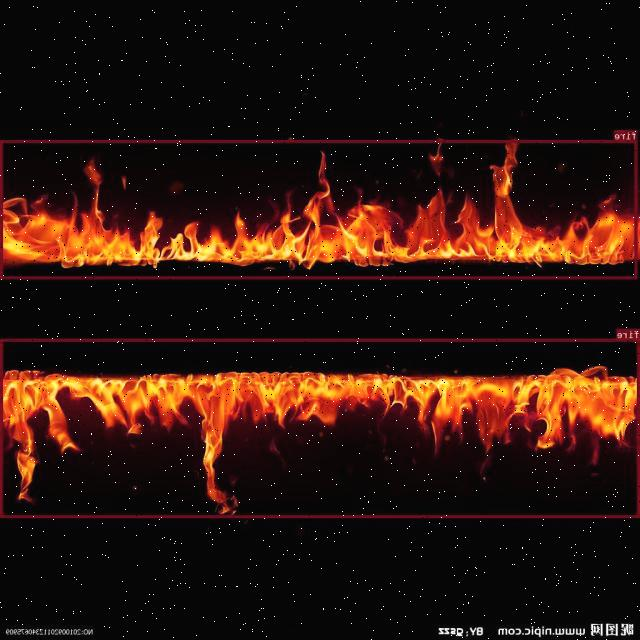fire: (1, 338, 640, 517), (1, 140, 638, 278)
